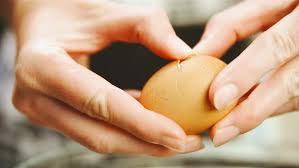egg: (140, 54, 239, 136)
